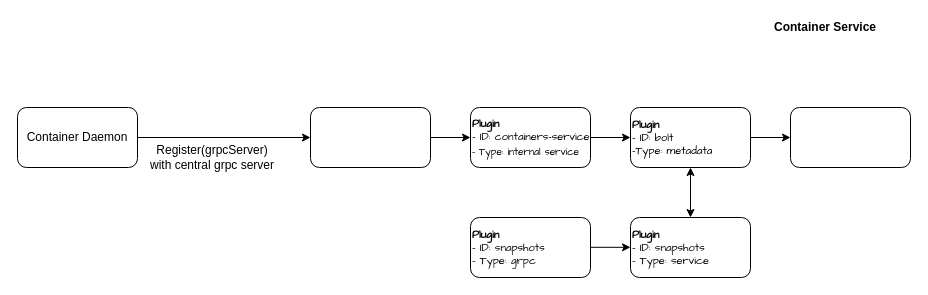
Some shapes in this 928 by 295 pixel diagram are drawn without their labels. Each missing label, with the box of its shape:
Plugin - ID: containers - Type: grpc: (310, 106, 430, 168)
Plugin - ID: content -Type: content: (790, 106, 910, 168)
